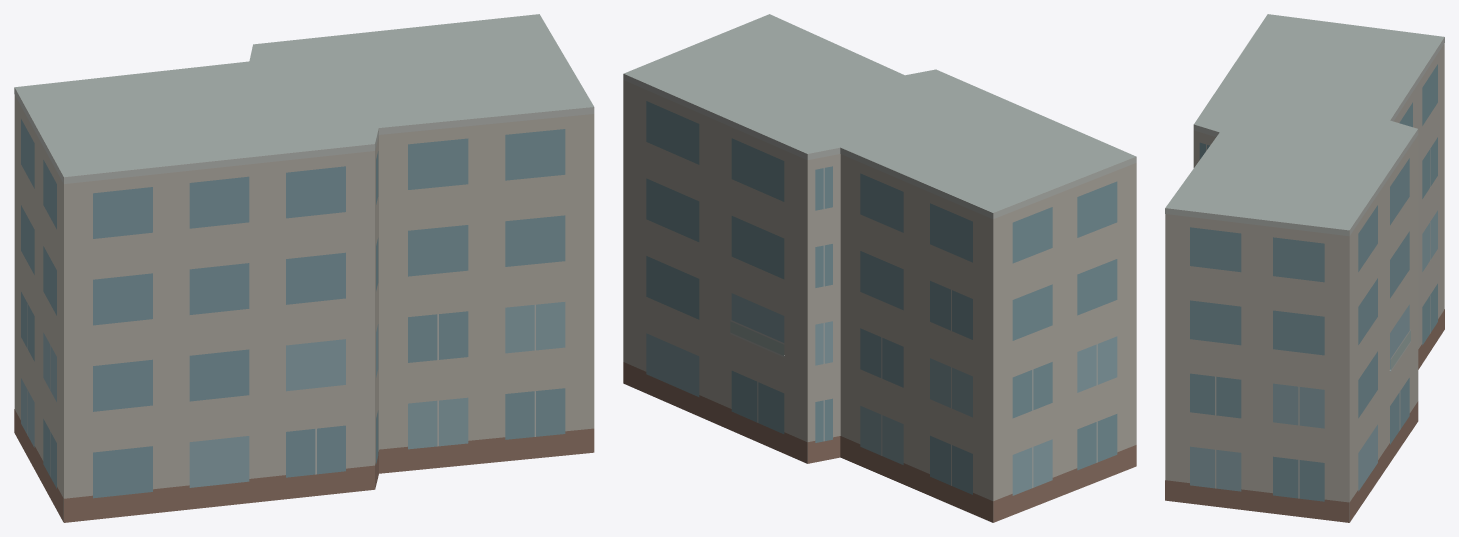
File: survey-upis-32648246.glb
3 renders of one model, left to right at view 1: azimuth 30°, elevation 25°; view 2: azimuth 150°, elevation 25°; view 3: azimuth 270°, elevation 25°, orthographic. The views are drawn at different scales.
Parts seen in each view (by area): view 1: survey-upis-32648246.tmp; view 2: survey-upis-32648246.tmp; view 3: survey-upis-32648246.tmp.
Part boxes in pixels (<box>): survey-upis-32648246.tmp: <box>14,14,594,522</box>; survey-upis-32648246.tmp: <box>623,14,1136,522</box>; survey-upis-32648246.tmp: <box>1165,14,1444,522</box>.
Size of the model in its own units: 19.37 by 12.2 by 10.58.
